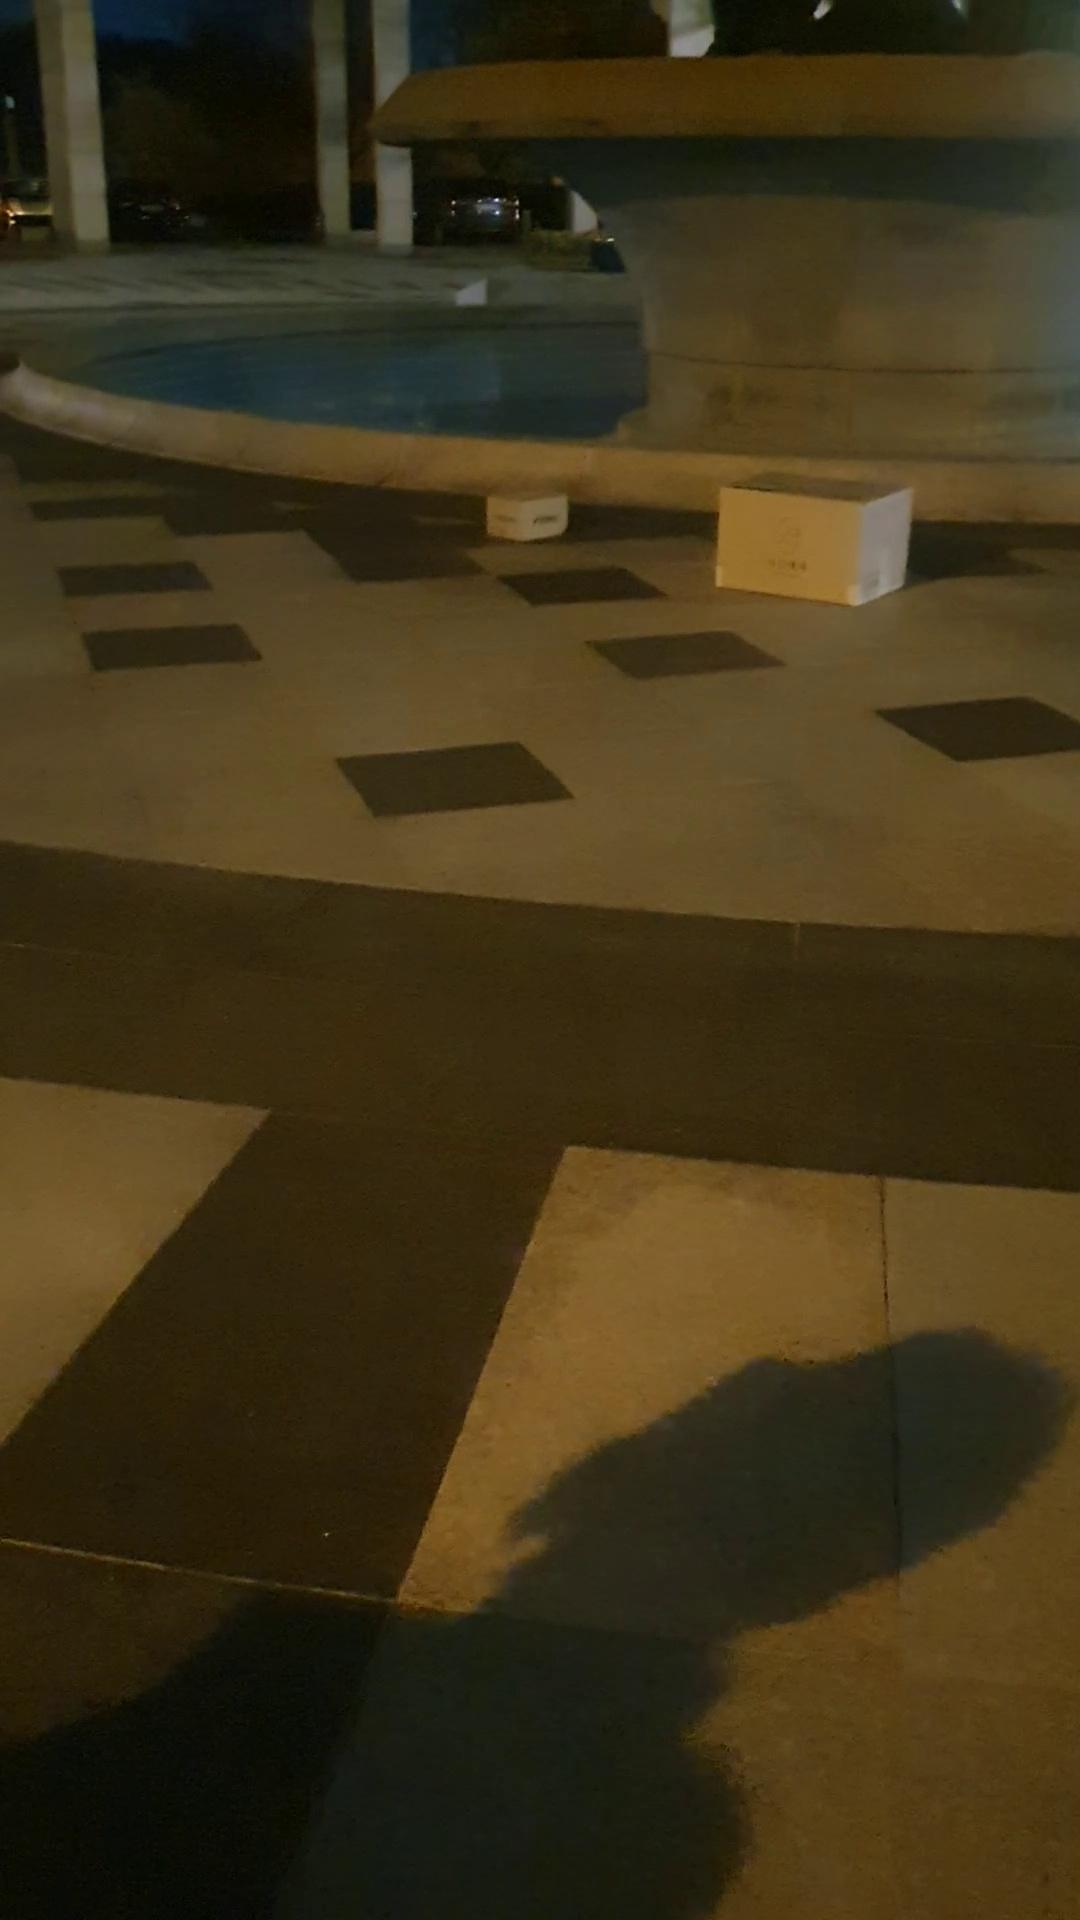Box: (708, 448, 922, 615), (471, 483, 578, 541)
